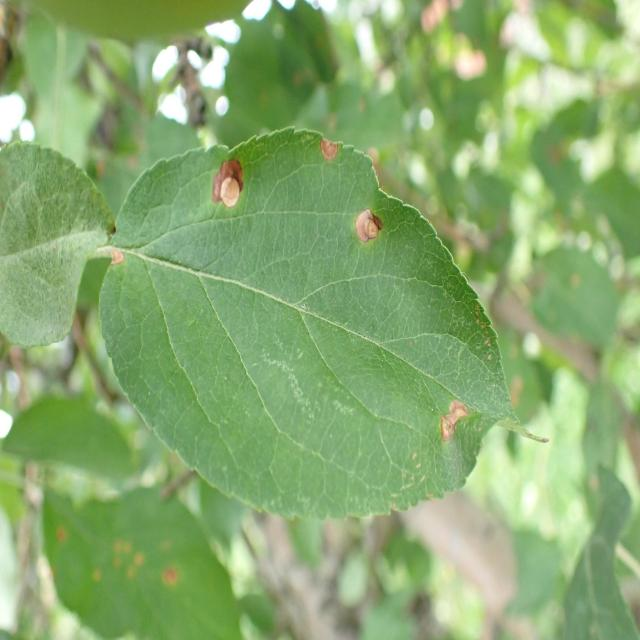Black Rot: (200, 147, 260, 221), (432, 383, 485, 462), (307, 127, 352, 179), (343, 203, 389, 249), (104, 233, 137, 277)
